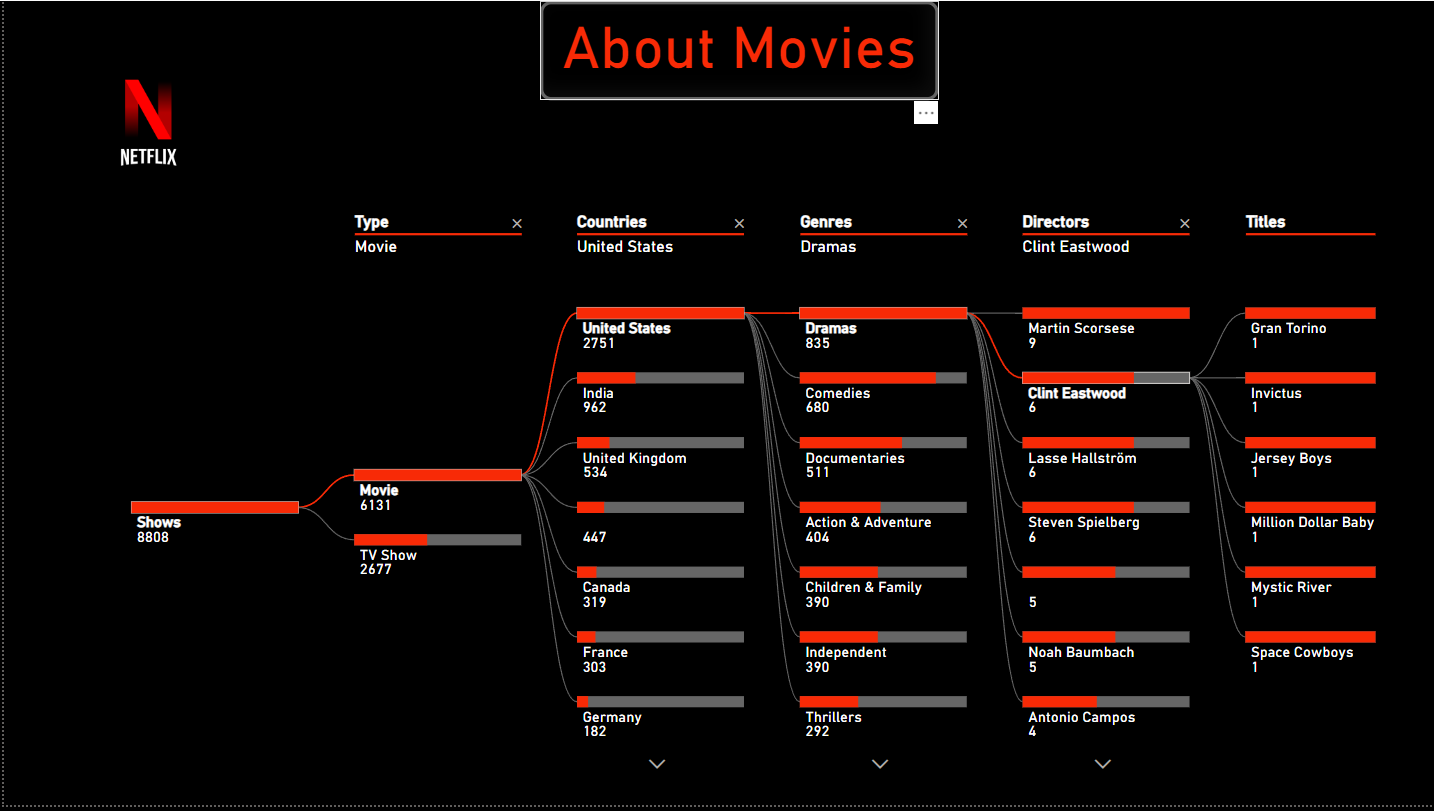

Layout of this report page (visuals, bound fields, positions):
{"tool":"powerbi","page":{"name":"Movies","canvas":[1280,720],"ordinal":3},"visuals":[{"type":"textbox","box":[480,0,357.3,88.7],"z":0},{"type":"image","box":[0,0,258.8,219.4],"z":1000},{"type":"decompositionTreeVisual","fields":{"Analyze":["Count(netflix.show_id)"],"ExplainBy":["netflix.type","netflix.country","netflix.listed_in","netflix.director","netflix.title"]},"box":[84.2,172.8,1149,537.3],"z":2000}]}

Visuals, with their boxes in screenshot pixels (x1, y1, x2, y2), scaled from the page's 1280x720 canvas onto the 1434x811 screenshot:
textbox: rect(538, 0, 938, 100)
image: rect(0, 0, 290, 247)
decompositionTreeVisual - Count(netflix.show_id) x netflix.type: rect(94, 195, 1382, 800)
